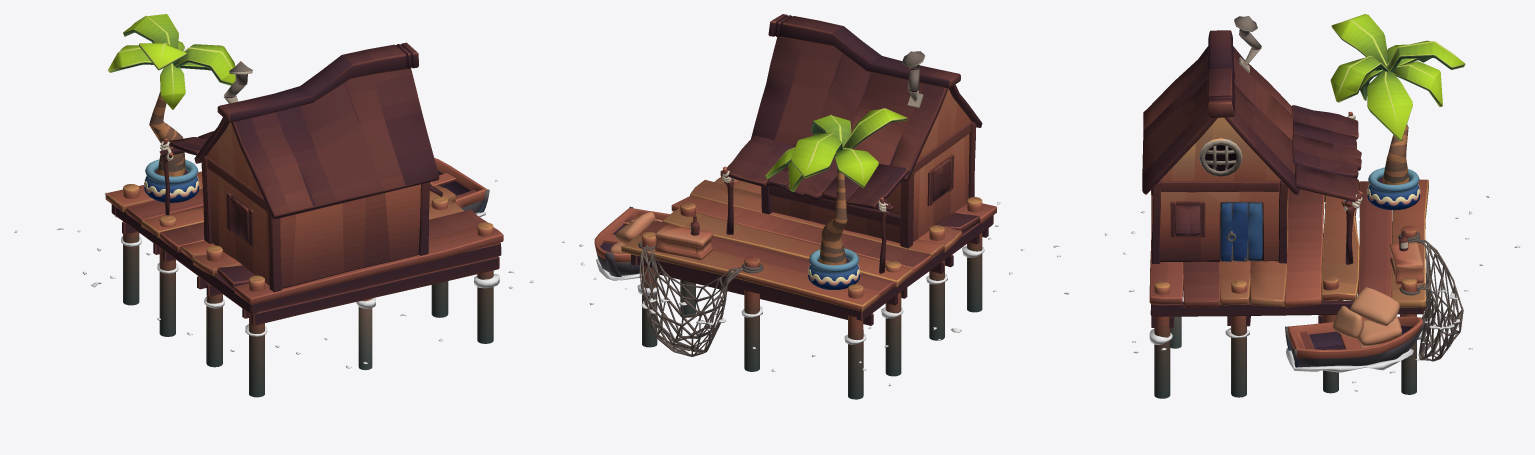
Rendered from FisherManHut.fbx.
3 views of the same model, side by side, from view 1: azimuth 30°, elevation 25°; view 2: azimuth 150°, elevation 25°; view 3: azimuth 270°, elevation 25° (orthographic). The views are drawn at different scales.
Parts seen in each view (by area): view 1: Cube; view 2: Cube; view 3: Cube.
Part boxes in pixels (<box>): Cube: <box>14,14,533,397</box>; Cube: <box>562,14,1024,399</box>; Cube: <box>1053,14,1520,398</box>.
Bounding box in the file's own units: 796 × 629 × 804.
